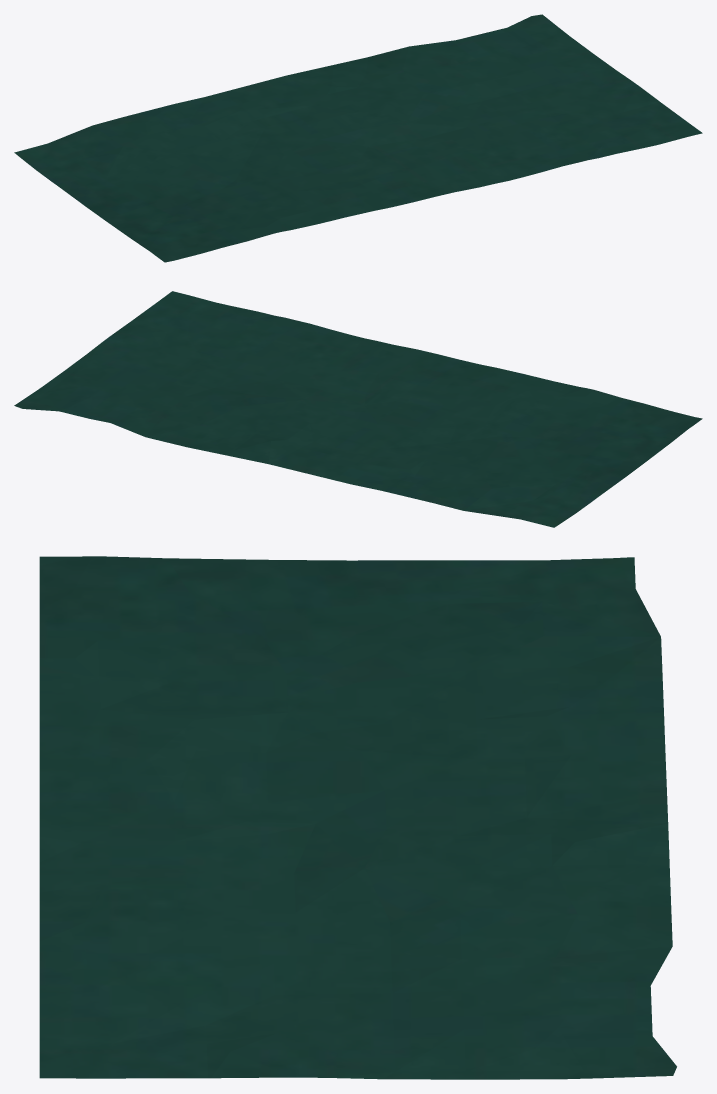
3 renders of one model, top to bottom at view 1: azimuth 30°, elevation 25°; view 2: azimuth 150°, elevation 25°; view 3: azimuth 270°, elevation 25°, orthographic. The views are drawn at different scales.
Size of the model in its own units: 52.22 by 0.5755 by 27.17.
Materials: 1 (1 with a texture image).
